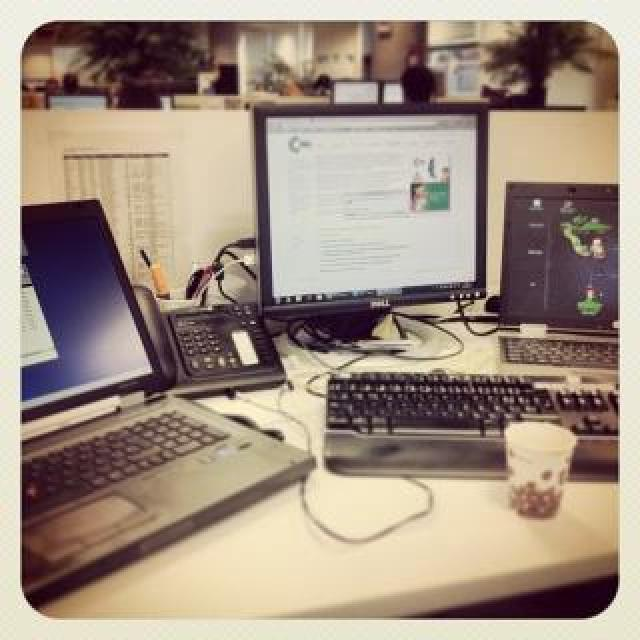laptop_computer: (25, 190, 242, 558), (245, 95, 480, 317), (505, 167, 620, 405)
